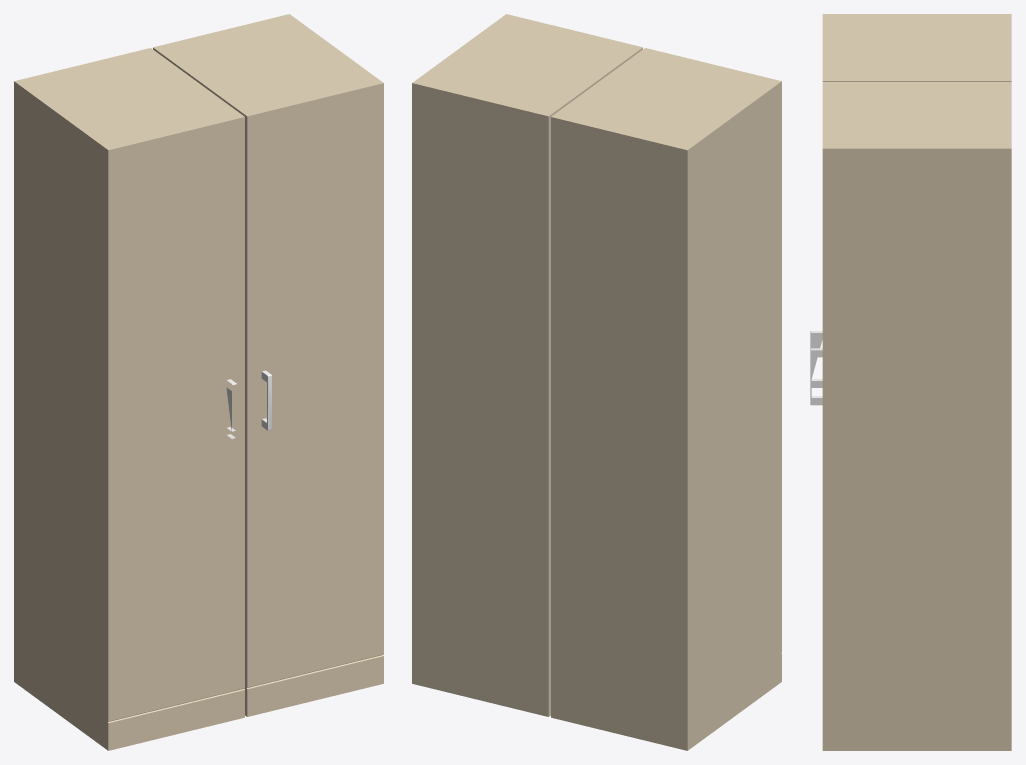
File: DBL WR - oak.glb
3 views of the same model, side by side, from view 1: azimuth 30°, elevation 25°; view 2: azimuth 150°, elevation 25°; view 3: azimuth 270°, elevation 25° (orthographic).
Visible parts, largest first — view 1: Mesh10 SHUTTER_2_2 Model, Mesh5 SHUTTER_2_1 Model, Mesh7 CP10000251_SHUTTER2 CP10000263CABINET2 Model, Mesh2 CP10000251_SHUTTER1 CP10000263CABINET1 Model, Mesh9 SHUTTER_5_2 Model, Mesh4 SHUTTER_5_1 Model; view 2: Mesh7 CP10000251_SHUTTER2 CP10000263CABINET2 Model, Mesh2 CP10000251_SHUTTER1 CP10000263CABINET1 Model, Mesh10 SHUTTER_2_2 Model; view 3: Mesh2 CP10000251_SHUTTER1 CP10000263CABINET1 Model, Mesh7 CP10000251_SHUTTER2 CP10000263CABINET2 Model, Mesh5 SHUTTER_2_1 Model, Mesh10 SHUTTER_2_2 Model, Mesh8 BASE_HANDLE_2_2 Model.
Boxes of the visible parts, box(x1,y1,x2,y2) form: Mesh10 SHUTTER_2_2 Model: box(105, 115, 244, 721); Mesh5 SHUTTER_2_1 Model: box(244, 81, 383, 687); Mesh7 CP10000251_SHUTTER2 CP10000263CABINET2 Model: box(14, 48, 241, 748); Mesh2 CP10000251_SHUTTER1 CP10000263CABINET1 Model: box(153, 14, 380, 115); Mesh9 SHUTTER_5_2 Model: box(105, 688, 244, 750); Mesh4 SHUTTER_5_1 Model: box(244, 655, 383, 716); Mesh7 CP10000251_SHUTTER2 CP10000263CABINET2 Model: box(551, 50, 778, 750); Mesh2 CP10000251_SHUTTER1 CP10000263CABINET1 Model: box(412, 16, 640, 716); Mesh10 SHUTTER_2_2 Model: box(643, 48, 781, 654); Mesh2 CP10000251_SHUTTER1 CP10000263CABINET1 Model: box(828, 82, 1011, 750); Mesh7 CP10000251_SHUTTER2 CP10000263CABINET2 Model: box(828, 14, 1011, 81); Mesh5 SHUTTER_2_1 Model: box(822, 82, 828, 722); Mesh10 SHUTTER_2_2 Model: box(822, 14, 828, 81); Mesh8 BASE_HANDLE_2_2 Model: box(810, 331, 822, 387).
Bounding box in the file's own units: 1008 × 2100 × 637.
